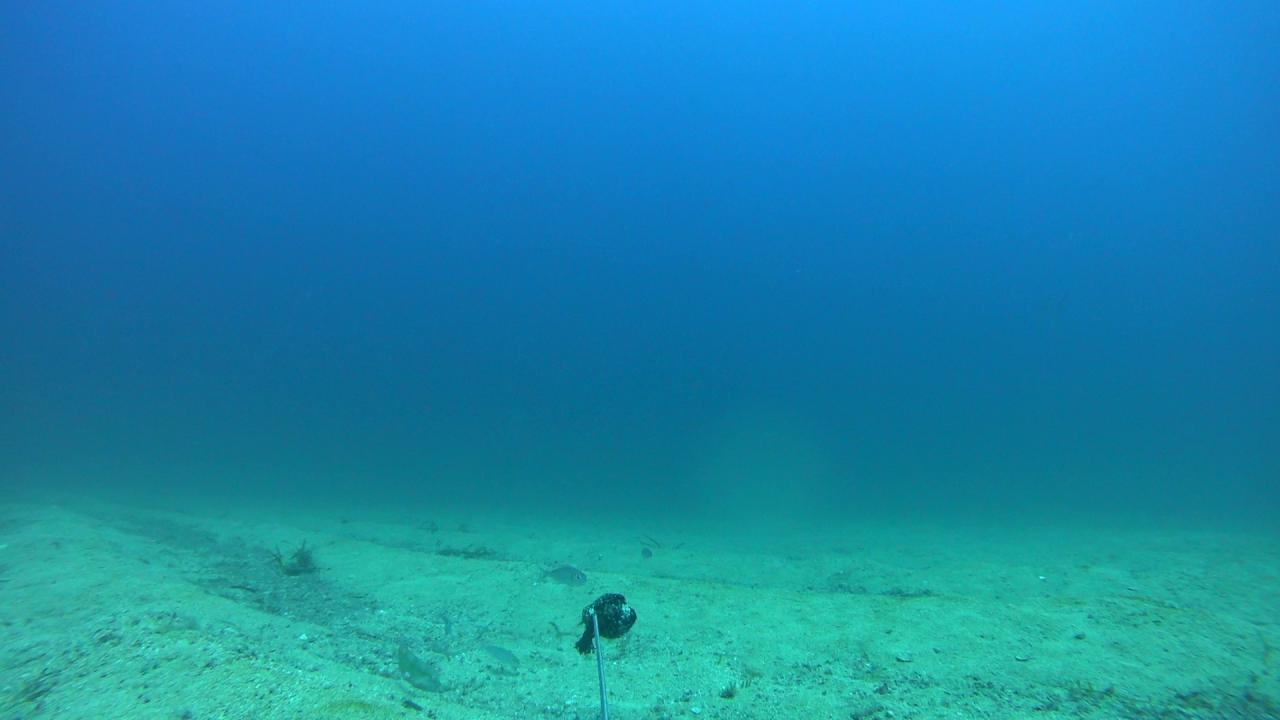pagellus: (475, 639, 519, 667), (536, 564, 588, 586)
